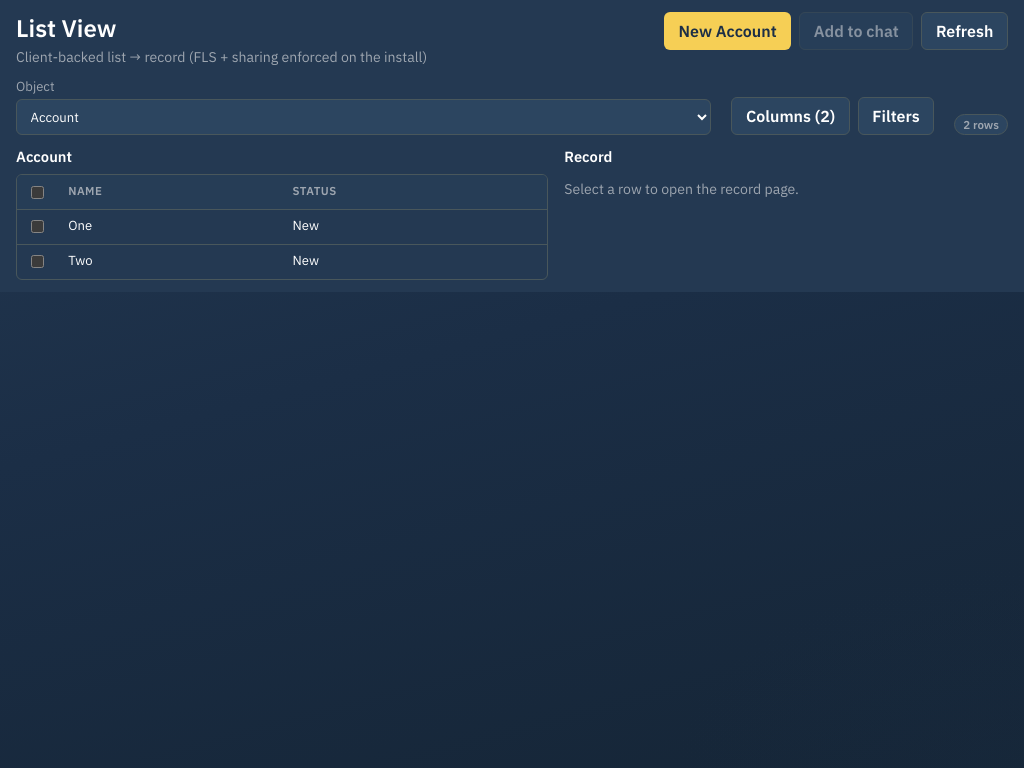
Test: RunObjectHomePanel › bulk-assigns selected rows via composite and surfaces mixed 200/403
Expected: the table with test id "run-object-home-table" is shown, x1=17 y1=175 x2=547 y2=279
Click the checkbox named "Select row for chat" next to "One".
click(38, 226)  # box x1=31 y1=220 x2=44 y2=233
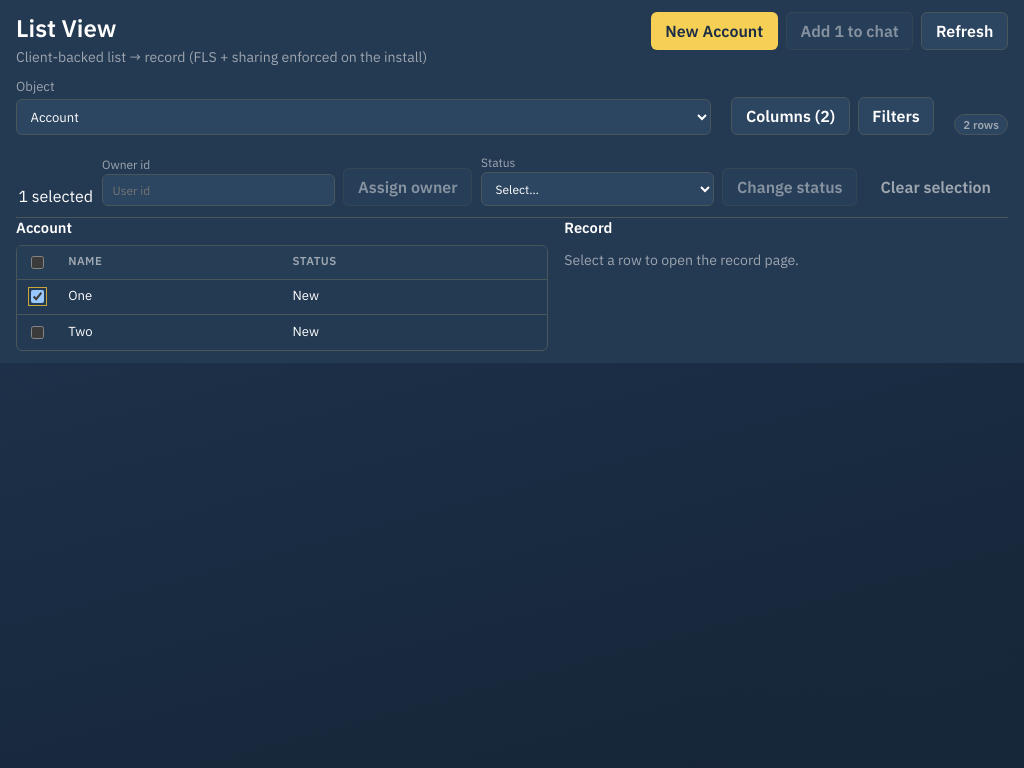
Click the checkbox named "Select row for chat" next to "Two".
click(38, 332)  # box x1=31 y1=326 x2=44 y2=339
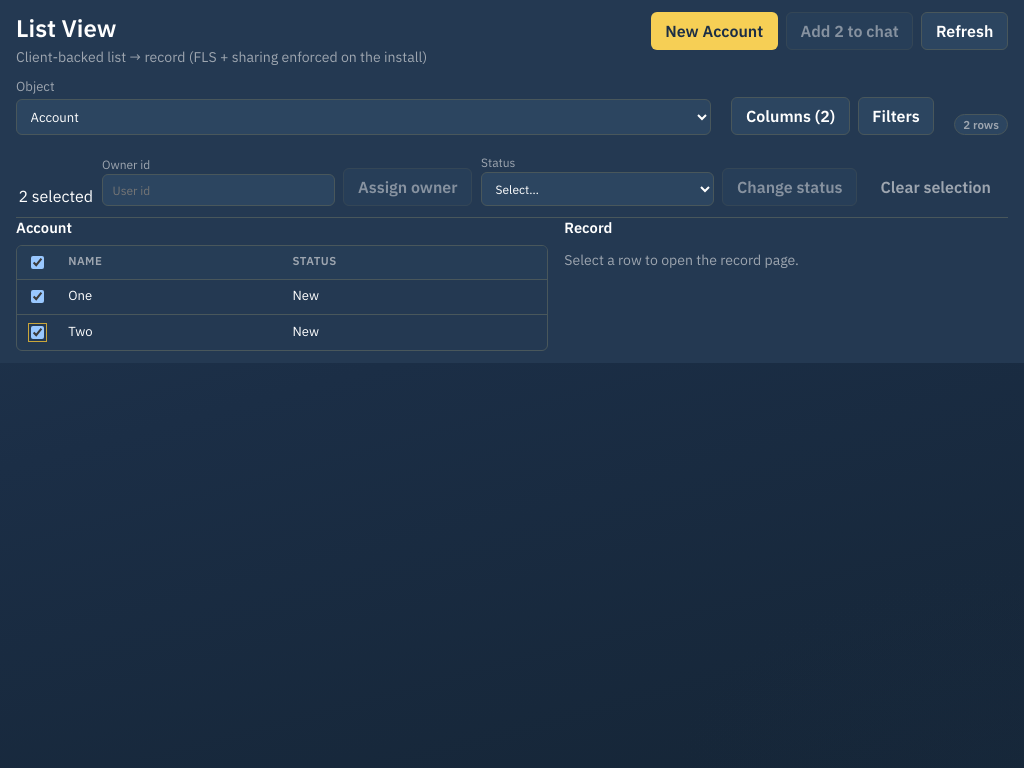
Result: the element with test id "run-object-home-bulk" is shown at x1=16 y1=147 x2=1008 y2=218
Result: the text with test id "run-object-home-bulk-count" reads "2 selected" at x1=18 y1=186 x2=93 y2=206
Type "user-9" into the field with test id "run-object-home-bulk-owner".
click(218, 190); type("user-9")  # box x1=102 y1=174 x2=335 y2=206
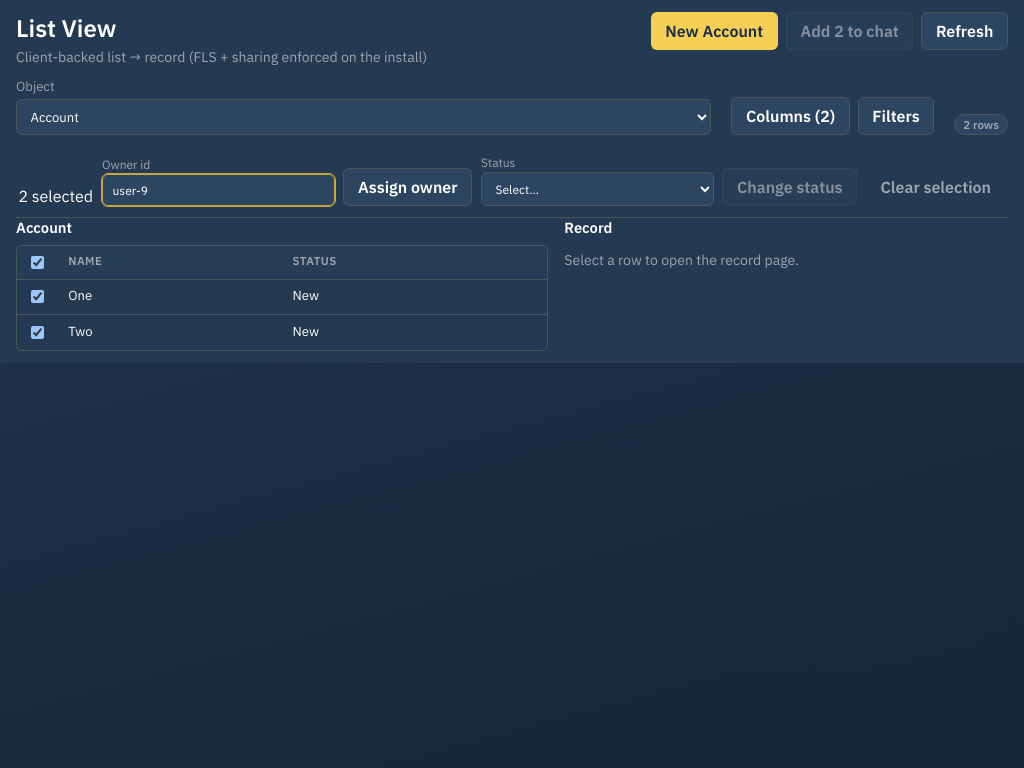
Click the button with test id "run-object-home-bulk-assign".
click(408, 187)  # box x1=344 y1=168 x2=472 y2=206
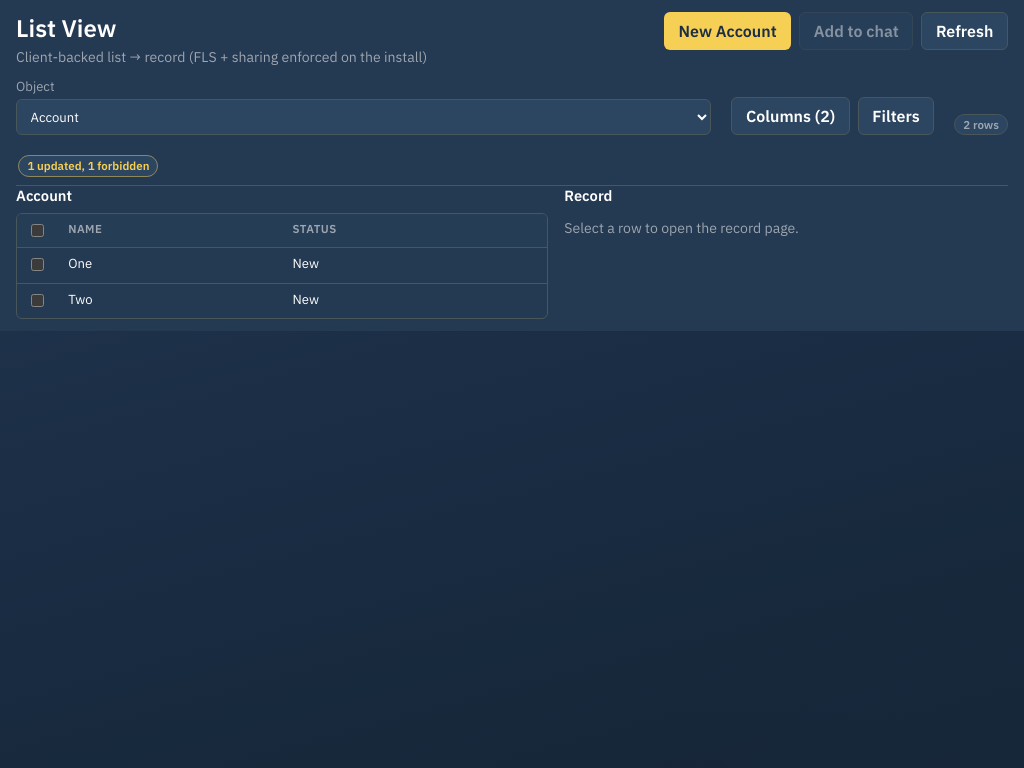
Result: the element with test id "run-object-home-bulk-result" reads "1 updated, 1 forbidden" at x1=27 y1=158 x2=150 y2=174
